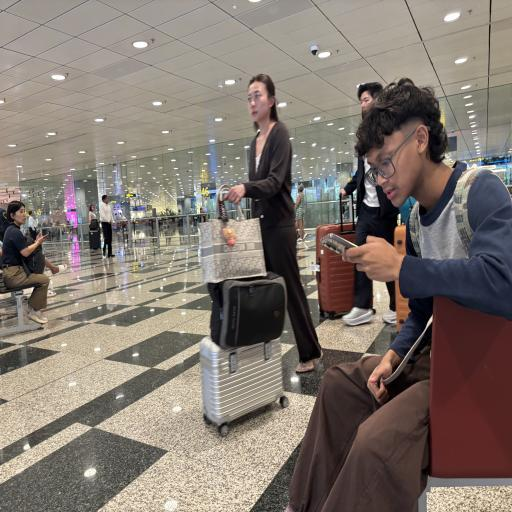person_with_luggage_left: (202, 64, 318, 396)
